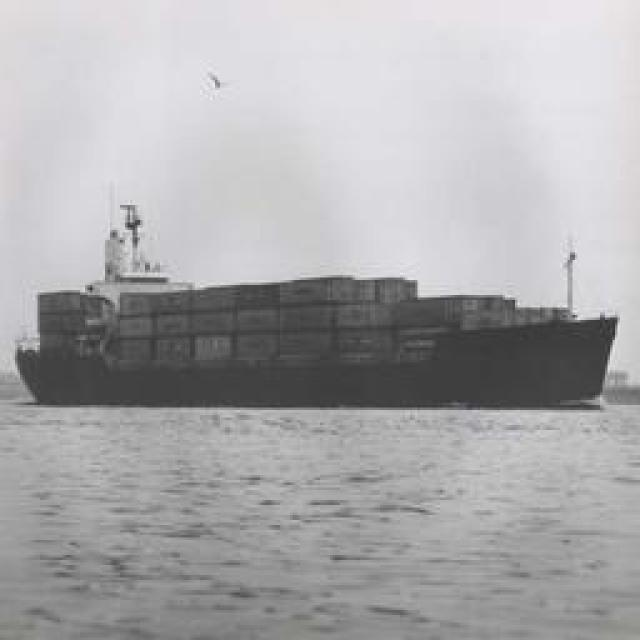Ship: (17, 261, 627, 411)
